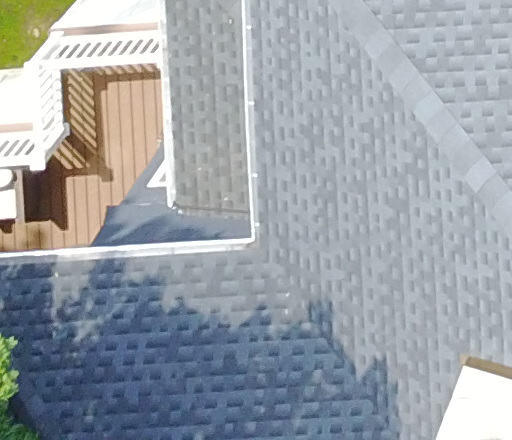porch: (3, 5, 225, 291)
